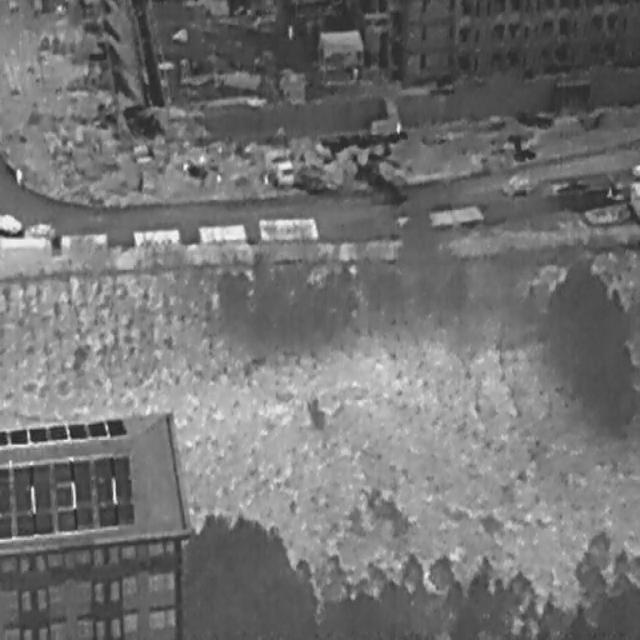Person: (14, 162, 23, 184), (286, 20, 293, 38), (395, 117, 401, 135)
